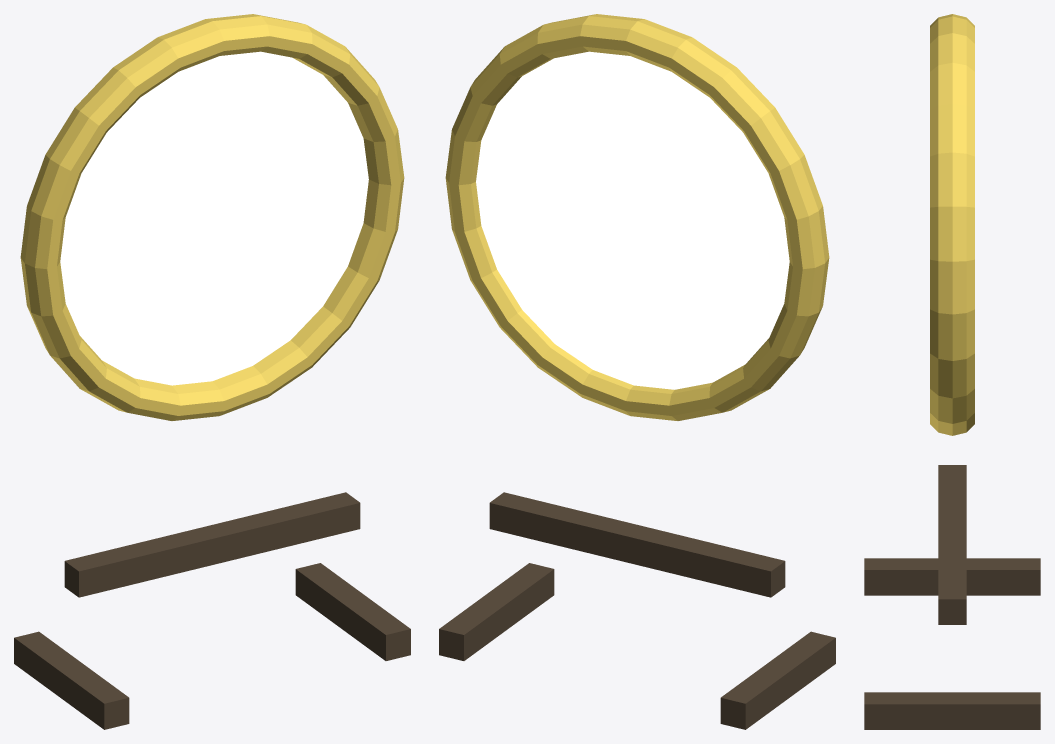
The model's file is soul_mirror.fbx.
3 views of the same model, side by side, from view 1: azimuth 30°, elevation 25°; view 2: azimuth 150°, elevation 25°; view 3: azimuth 270°, elevation 25° (orthographic). The views are drawn at different scales.
Visible parts, largest first — view 1: soul_mirror; view 2: soul_mirror; view 3: soul_mirror.
Boxes of the visible parts, left/top/right/bottom form: soul_mirror: left=14, top=14, right=410, bottom=729; soul_mirror: left=439, top=14, right=835, bottom=729; soul_mirror: left=864, top=14, right=1040, bottom=729.
Bounding box in the file's own units: 1.2 × 1.95 × 0.5.
